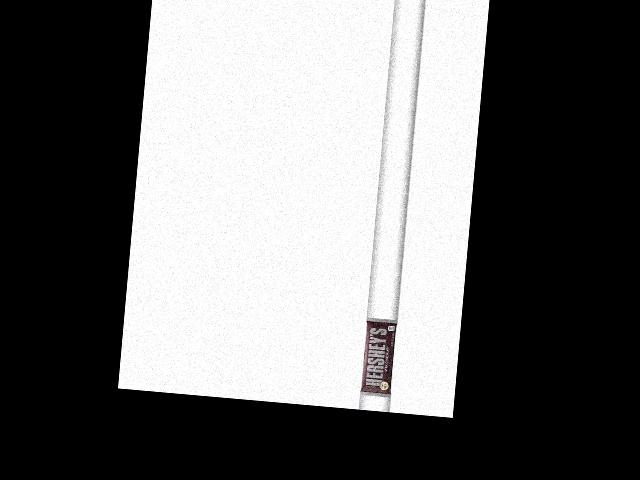chocolate: (361, 317, 401, 396)
